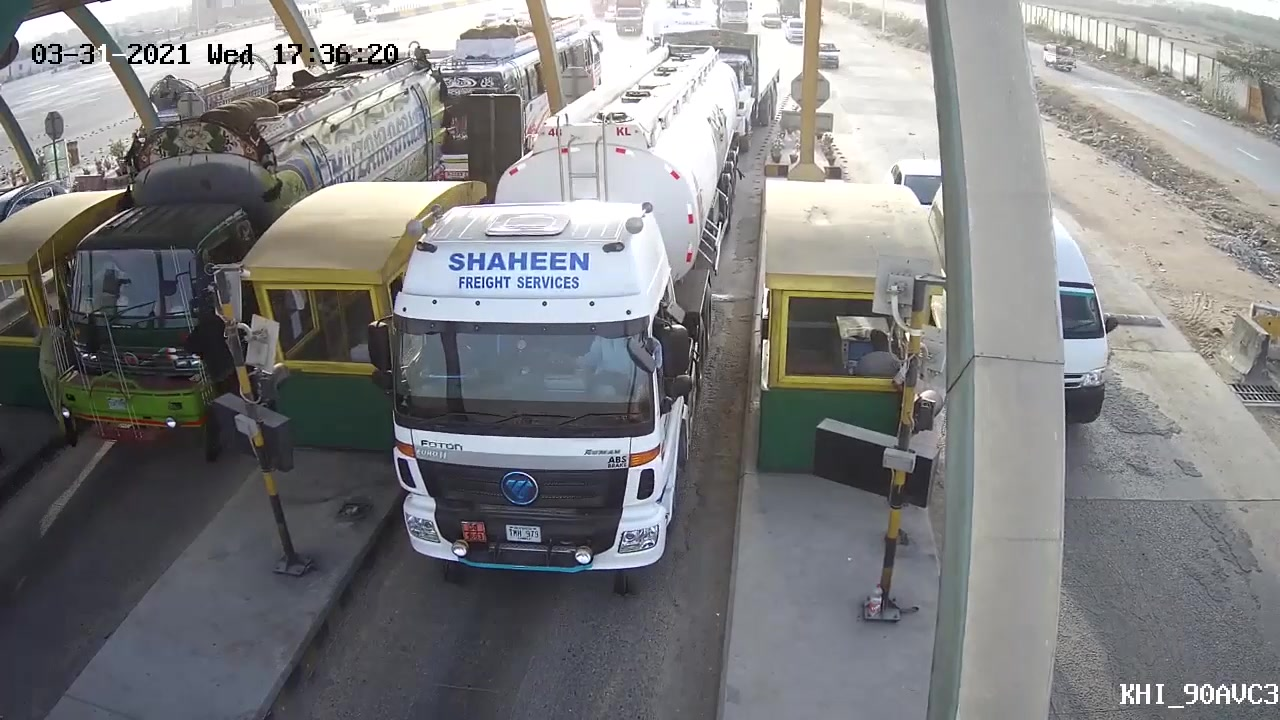F6: (389, 51, 765, 593)
